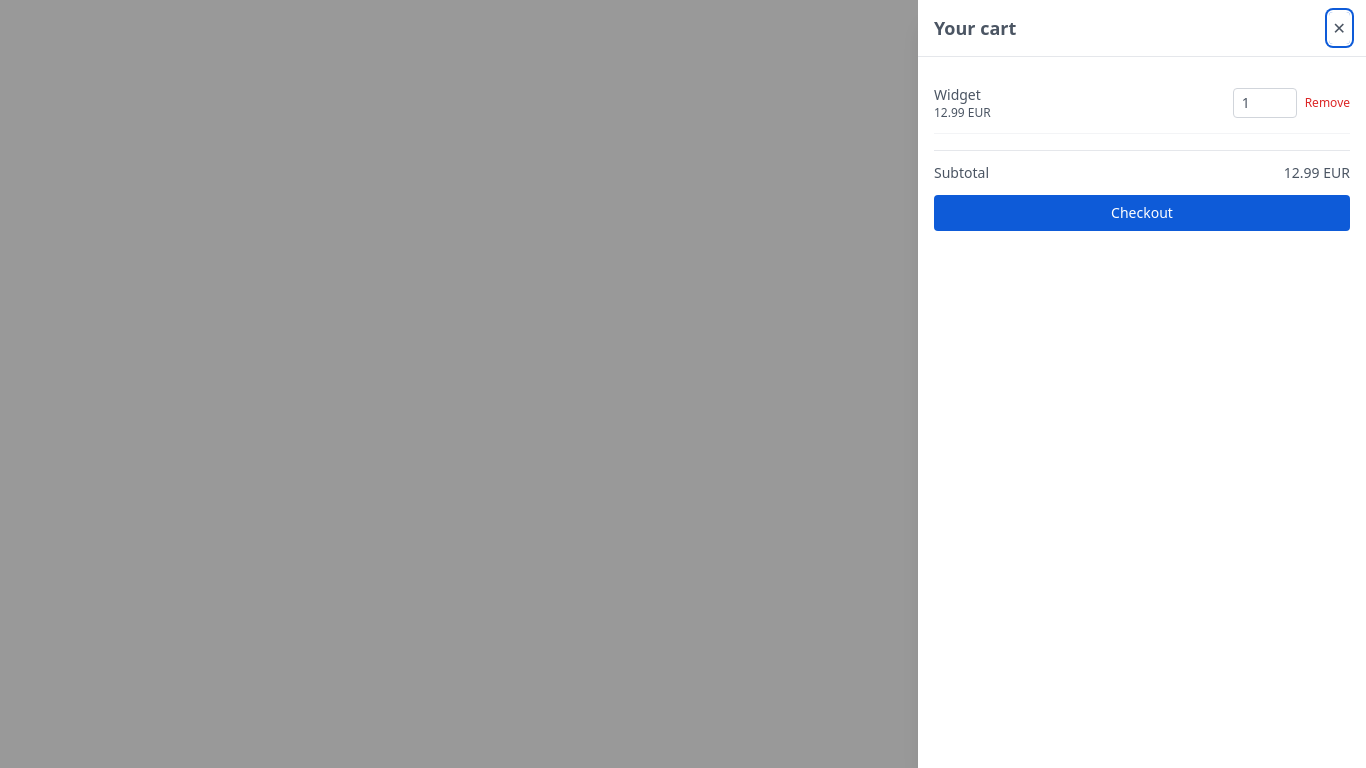
Scenario: CartDrawer › removes a line on click
Expected: the text "Widget" is shown, [934,85,981,104]
Click the button with aria-label "remove widget" at [1327, 103], box [1305,95,1350,111]
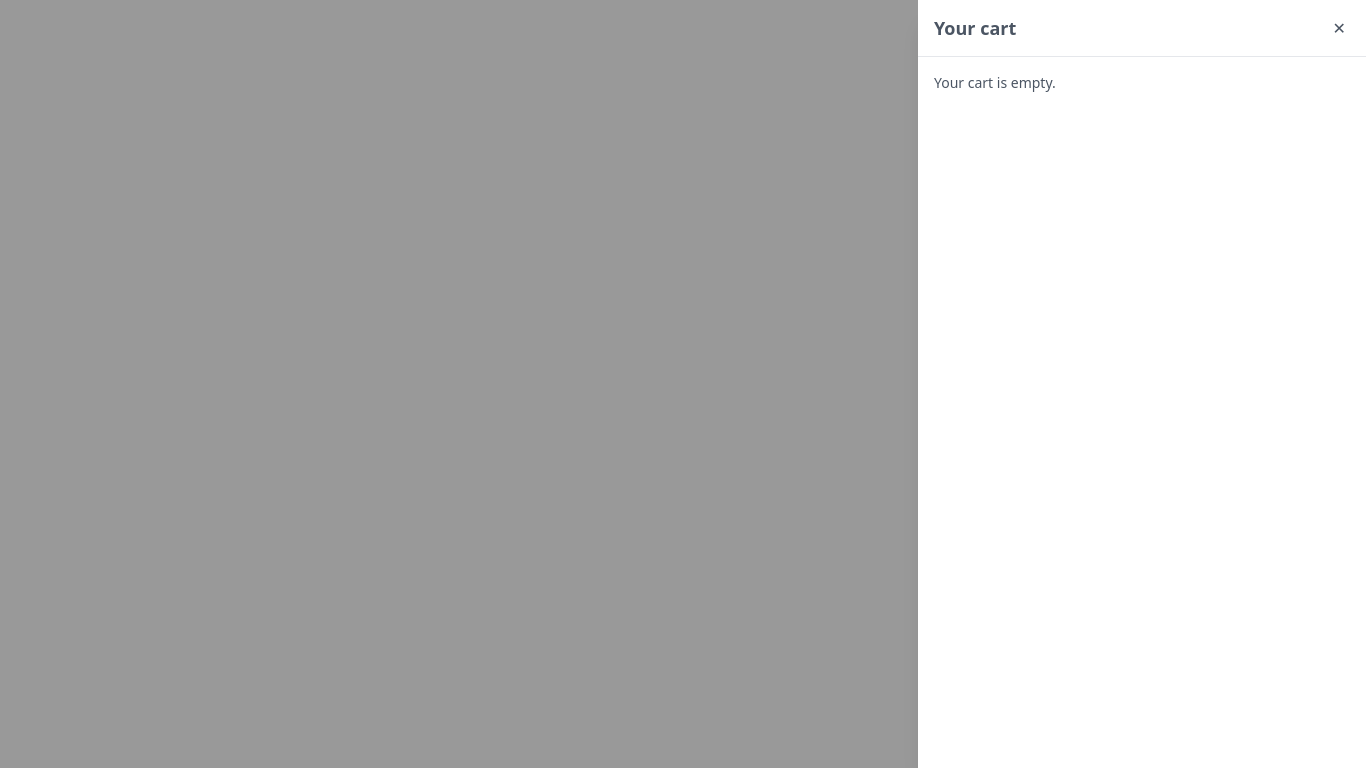
Now the text "Widget" is gone
